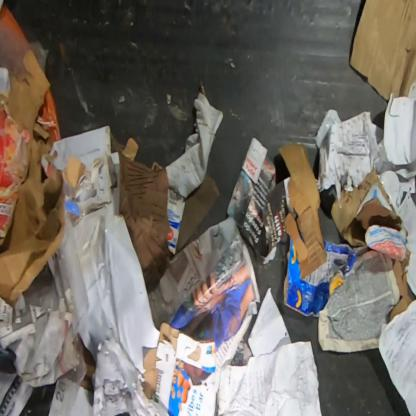cardboard: (0, 47, 68, 306), (278, 143, 357, 318), (331, 167, 415, 323), (110, 132, 170, 286), (142, 322, 217, 415), (349, 0, 415, 101), (167, 172, 220, 255), (0, 93, 22, 257), (67, 155, 117, 224), (37, 88, 61, 144), (66, 154, 86, 190)
soft_plastic: (60, 310, 87, 386)
